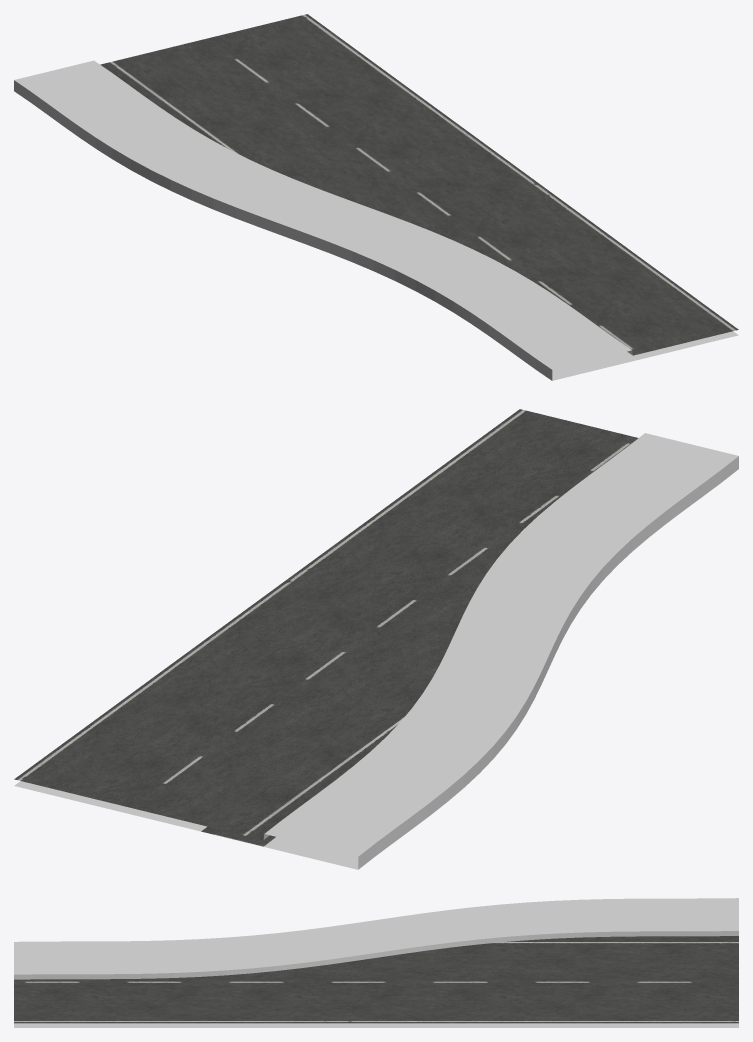
The model's file is Transition 1-2L.fbx.
3 views of the same model, one above another, from view 1: azimuth 30°, elevation 25°; view 2: azimuth 150°, elevation 25°; view 3: azimuth 270°, elevation 25° (orthographic). The views are drawn at different scales.
Parts seen in each view (by area): view 1: Plane; view 2: Plane; view 3: Plane.
Part boxes in pixels (left/top/right/bottom): Plane: left=14, top=14, right=738, bottom=380; Plane: left=14, top=409, right=738, bottom=869; Plane: left=14, top=898, right=738, bottom=1027.
Bounding box in the file's own units: 1100 × 40 × 2800.
